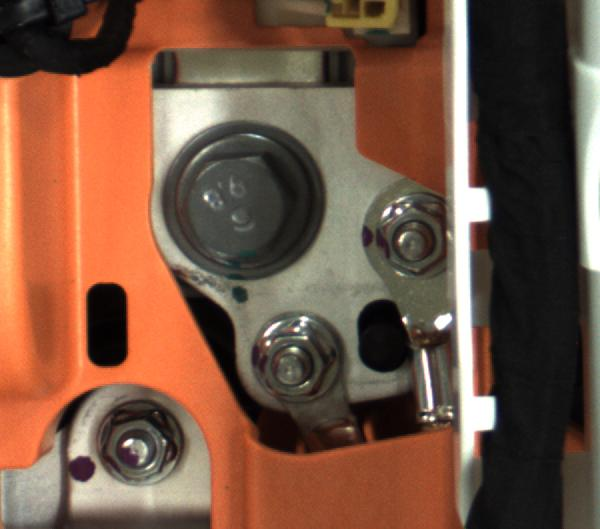nut_b: (163, 125, 317, 268)
screw_s: (86, 403, 186, 500), (254, 311, 342, 406), (367, 191, 437, 282)
